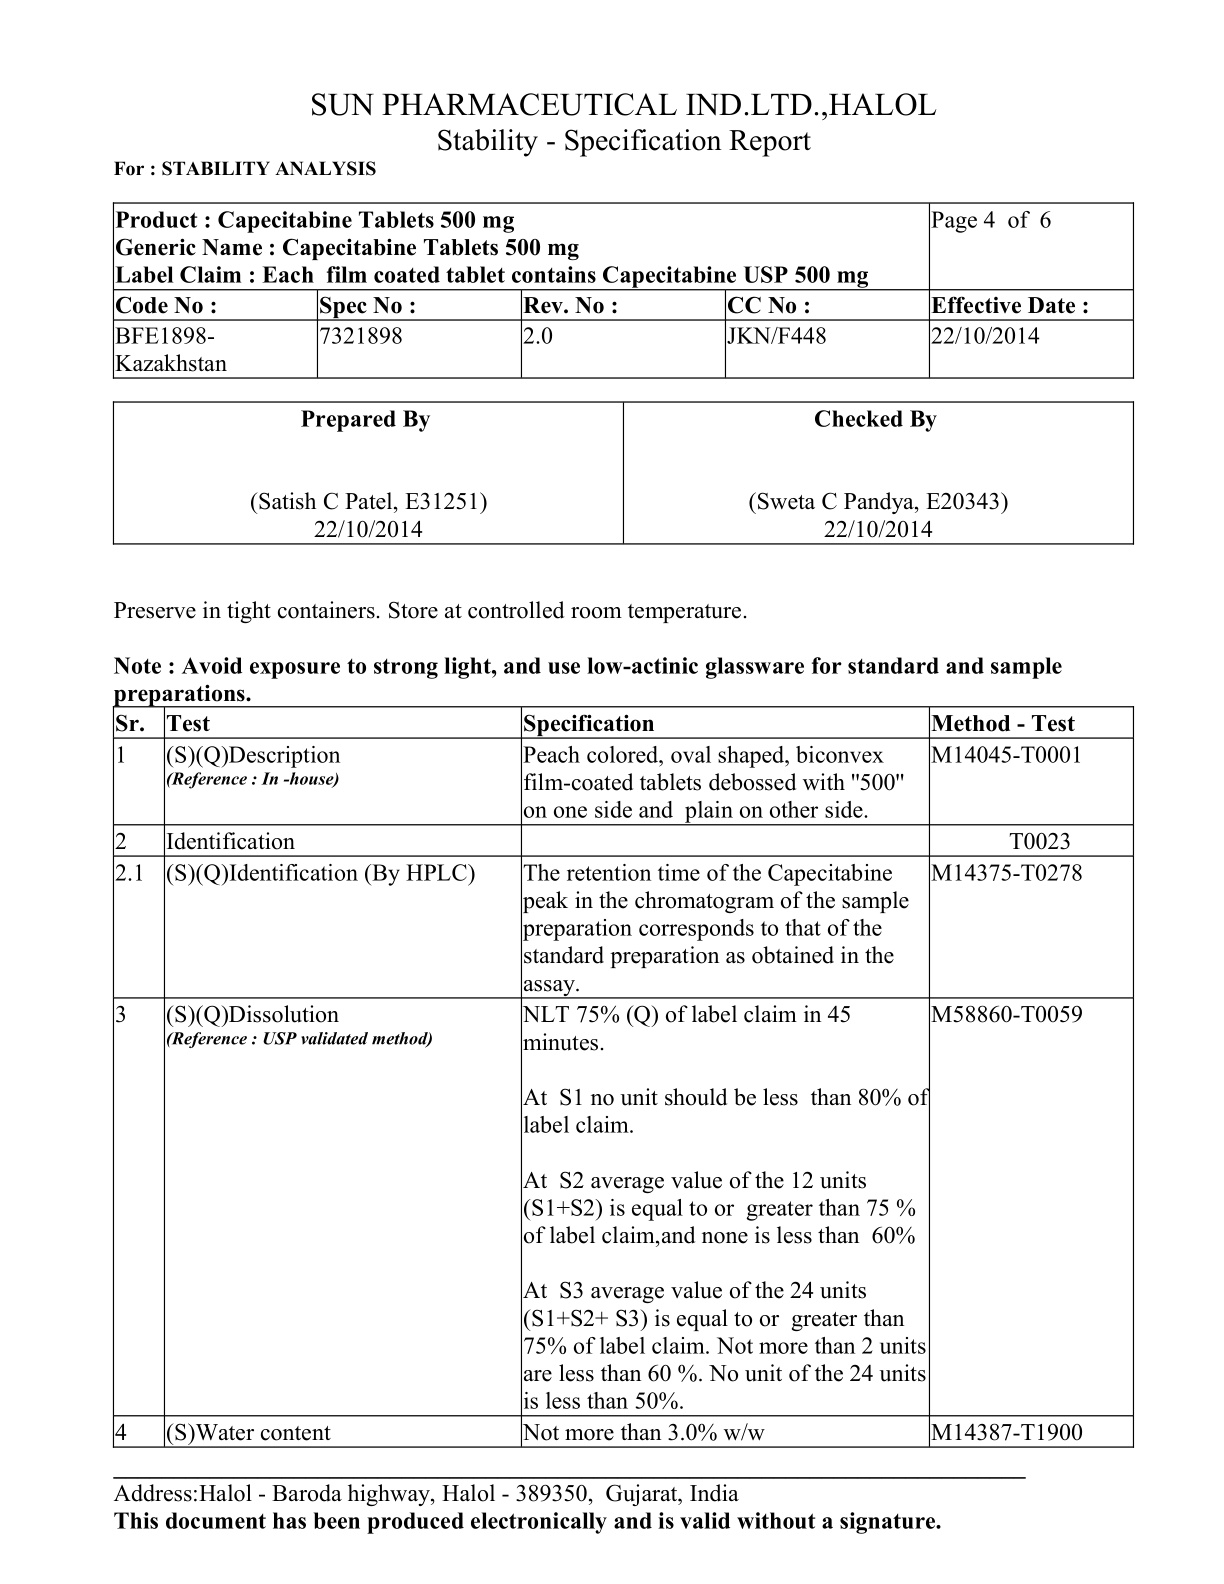full_lined: (112, 705, 1137, 1449), (111, 399, 1137, 546)
merged_cells: (112, 201, 1135, 381)
